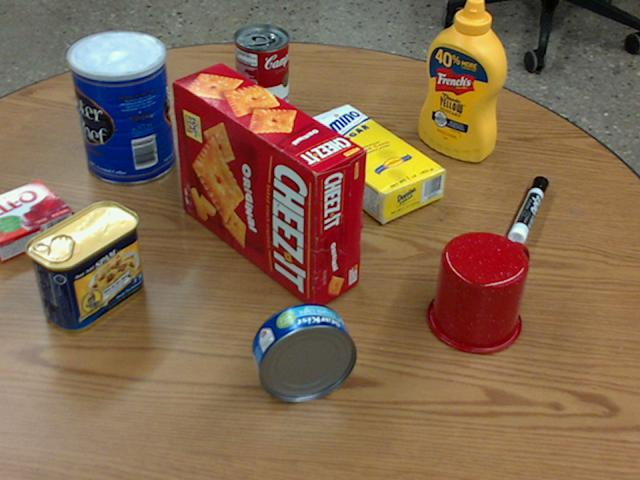cracker_box: (172, 64, 365, 308)
gelatin_box: (0, 179, 73, 259)
large_marker: (508, 176, 548, 245)
master_chef_can: (67, 31, 173, 184)
mug: (425, 231, 528, 352)
mustard_bottle: (419, 0, 506, 160)
potted_meat_can: (25, 199, 141, 330)
sugar_box: (290, 104, 445, 222)
tomato_soup_can: (234, 24, 288, 120)
tuna_fish_can: (252, 303, 357, 400)
